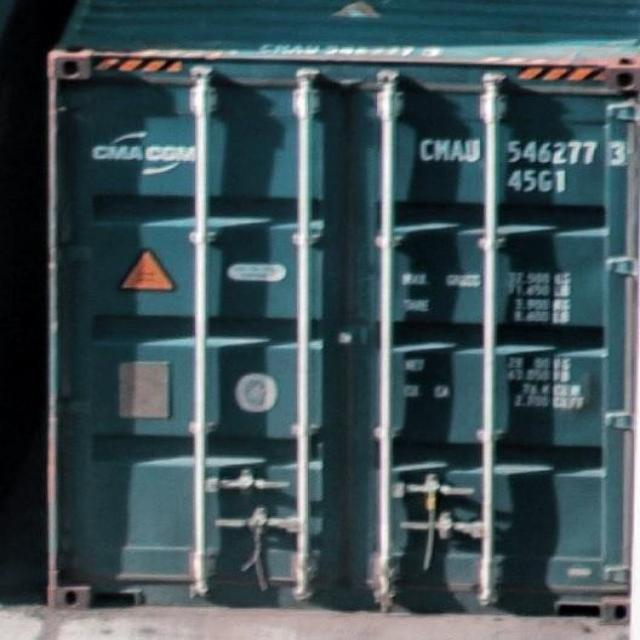ISO: (508, 167, 570, 196)
container_number: (424, 130, 628, 168)
